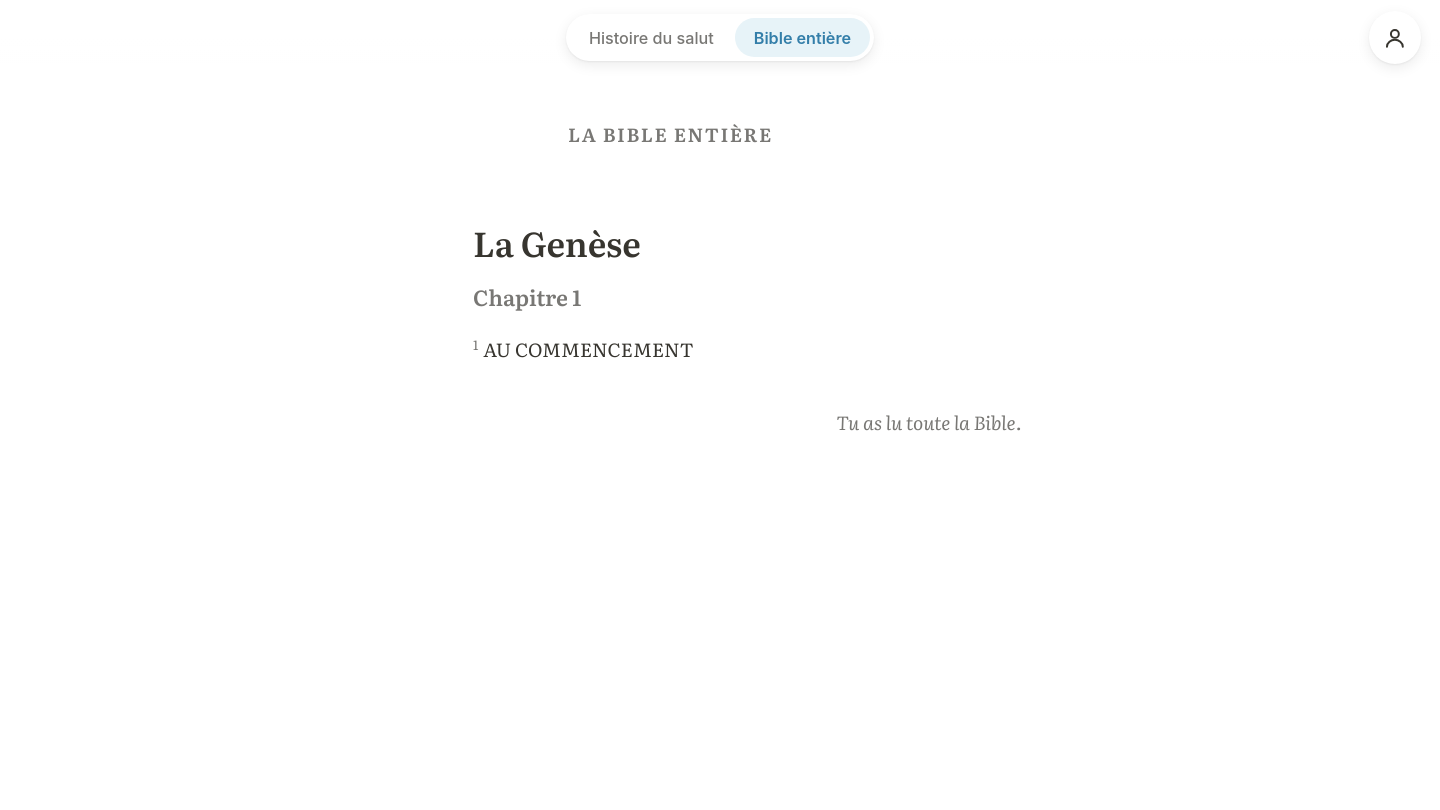
Test case: routage › dans la Bible entière, « Voir les parallèles » ouvre le panneau du verset
The image size is (1440, 810).
Step 1. Right-click the button "1AU COMMENCEMENT" → [583, 348], box left=473, top=334, right=694, bottom=363
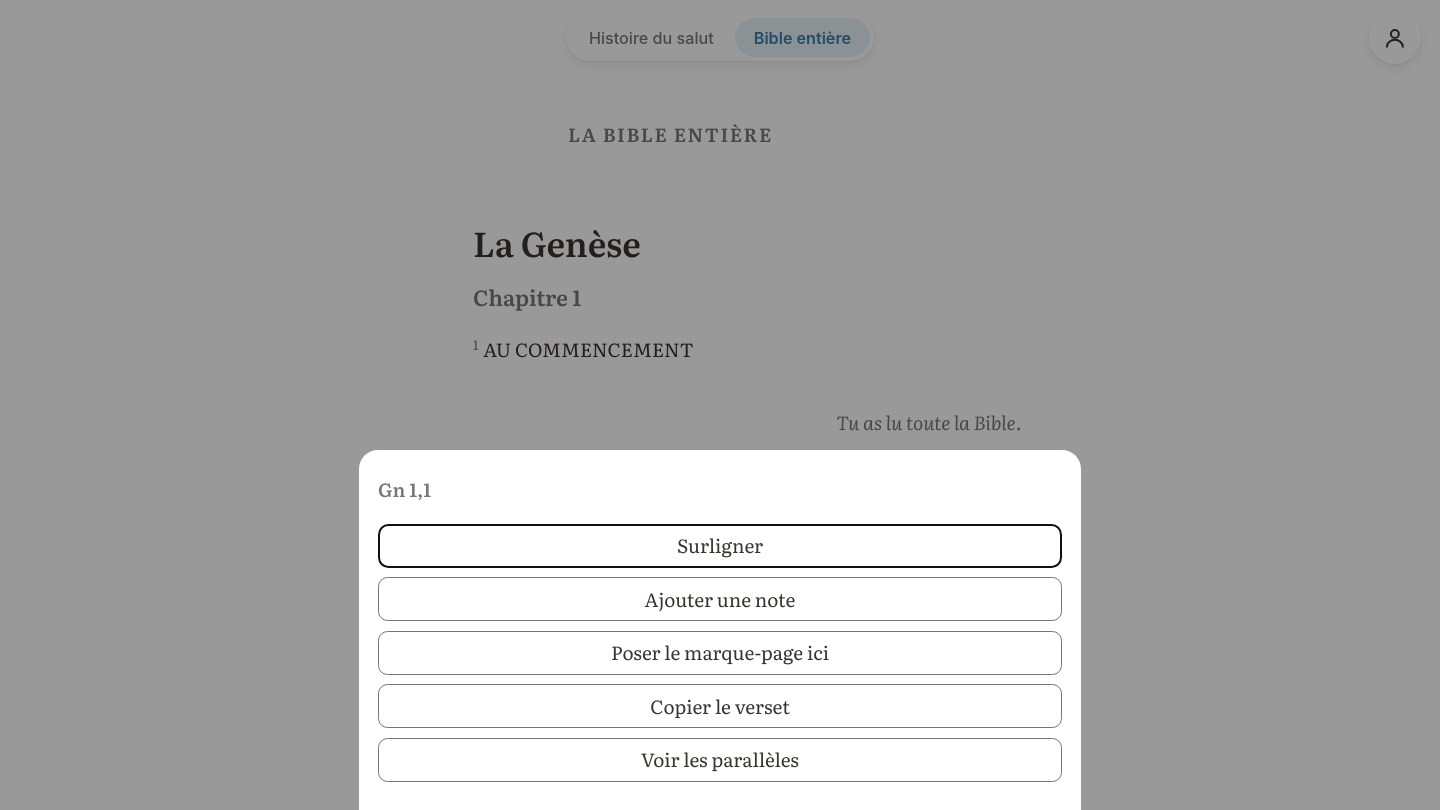
Step 2. Click the button "Voir les parallèles" → [720, 760], box left=378, top=738, right=1062, bottom=782
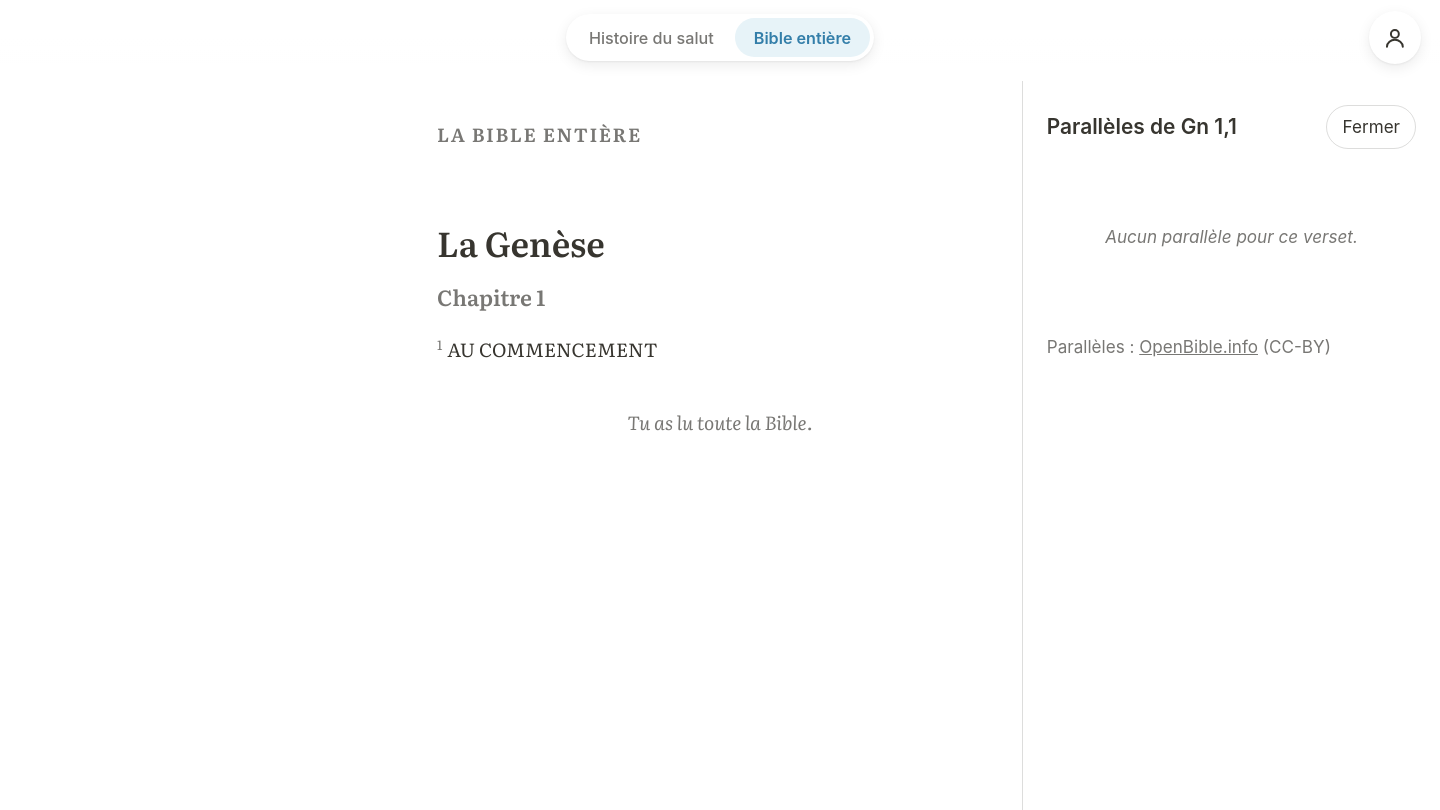
Expected: the heading "Parallèles de Gn 1,1" is shown, left=1047, top=114, right=1237, bottom=140
